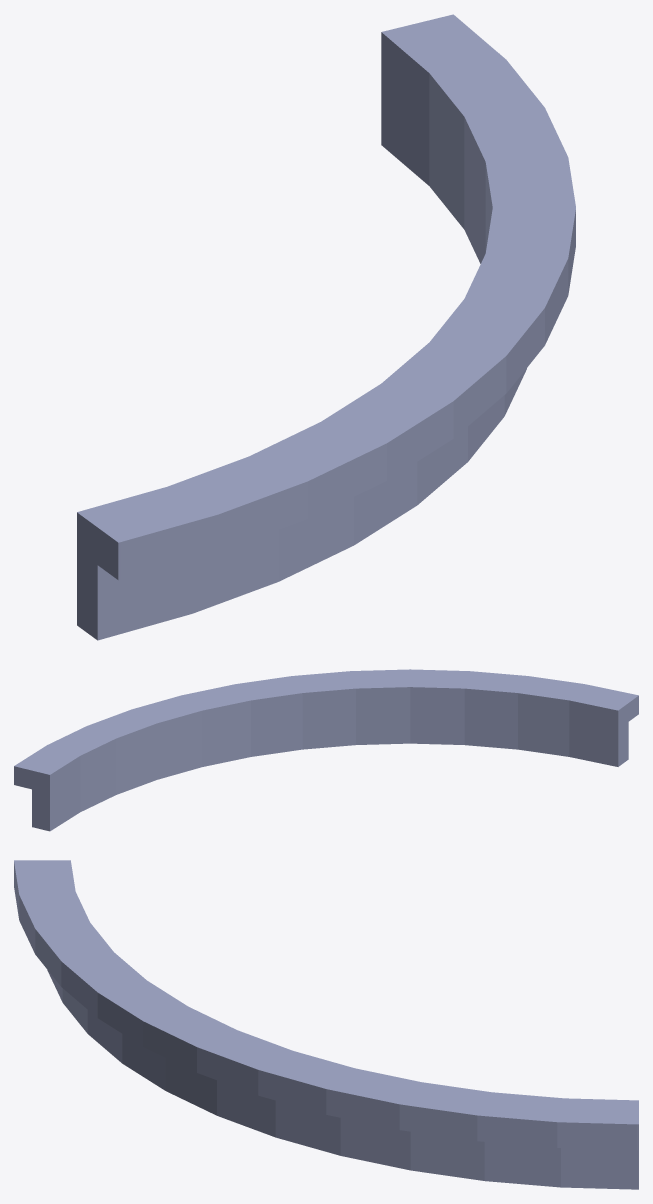
Rendered from border-corner-round.obj.
The picture shows the model from 3 angles, top to bottom: view 1: azimuth 30°, elevation 25°; view 2: azimuth 150°, elevation 25°; view 3: azimuth 270°, elevation 25°; orthographic projection. The views are drawn at different scales.
Bounding box in the file's own units: 2.2 × 0.3 × 2.2.
